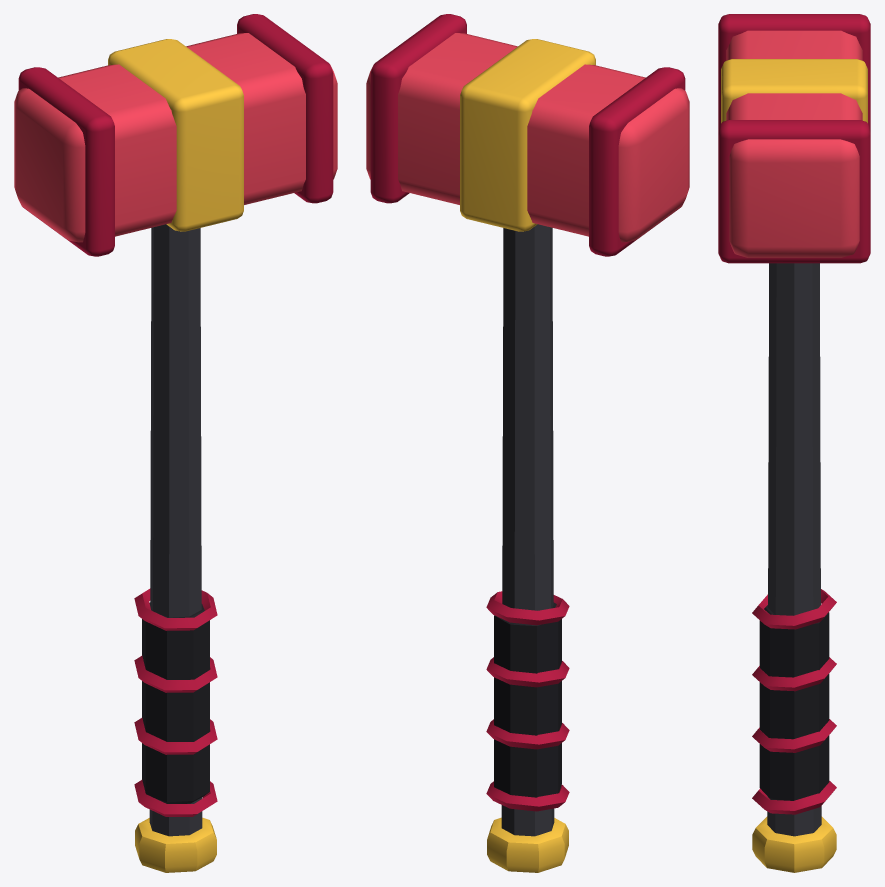
Rendered from RubyHammer.fbx.
The picture shows the model from 3 angles, left to right: view 1: azimuth 30°, elevation 25°; view 2: azimuth 150°, elevation 25°; view 3: azimuth 270°, elevation 25°; orthographic projection.
Visible parts, largest first — view 1: RubyHammer; view 2: RubyHammer; view 3: RubyHammer.
Boxes of the visible parts, bbox=[...] form: RubyHammer: bbox=[14, 14, 337, 872]; RubyHammer: bbox=[366, 14, 689, 872]; RubyHammer: bbox=[718, 14, 870, 872].
Bounding box in the file's own units: 1.15 × 3.2 × 0.56.
Materials: 1 (1 with a texture image).
